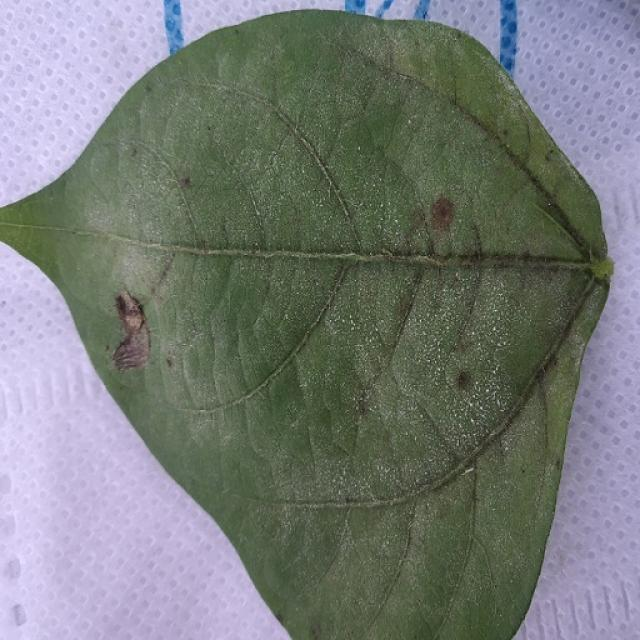Blackgram: (0, 10, 611, 639)
Powdery_Mildew: (95, 132, 203, 257), (426, 329, 500, 461), (320, 285, 410, 391), (323, 150, 406, 225), (470, 307, 509, 345), (181, 339, 189, 348), (349, 318, 356, 328), (283, 312, 290, 321), (348, 313, 354, 321), (509, 577, 514, 585), (498, 612, 503, 620), (547, 201, 552, 207), (407, 119, 412, 125), (357, 145, 361, 151)
